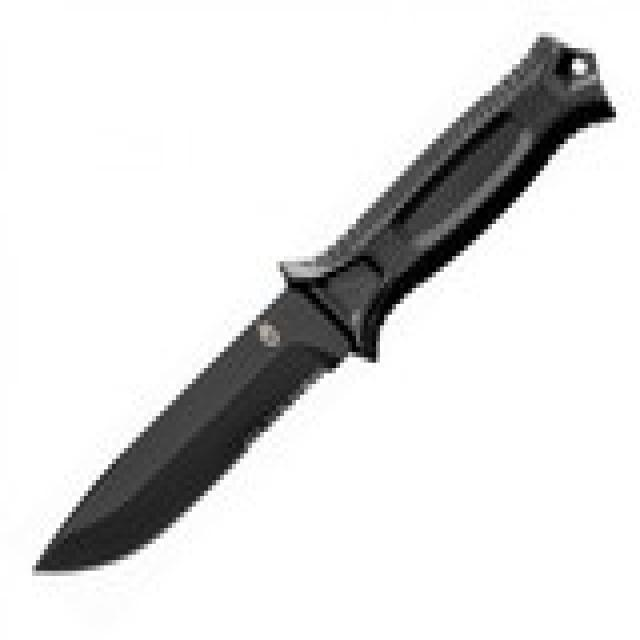Knife: (26, 38, 608, 579)
